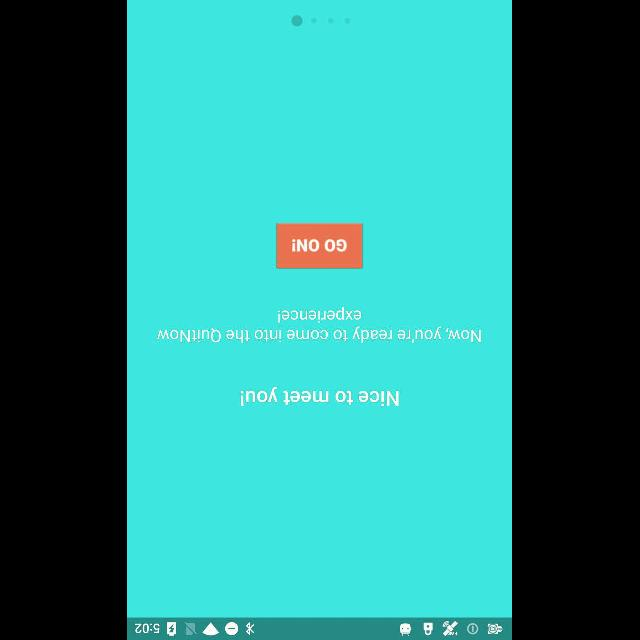pageindicator: (292, 15, 352, 27)
text: (158, 306, 482, 344), (240, 386, 400, 406)
textbutton: (278, 224, 362, 268)
uppertaskbar: (128, 617, 512, 639)
